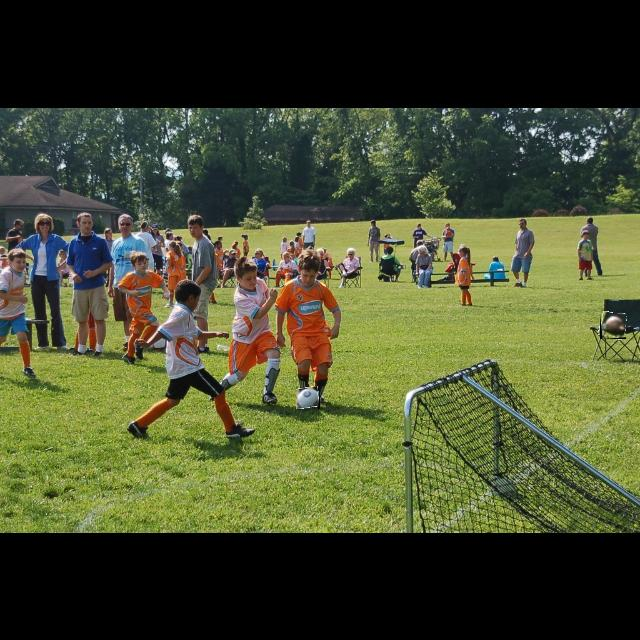Football: (600, 313, 626, 339), (296, 387, 320, 409)
